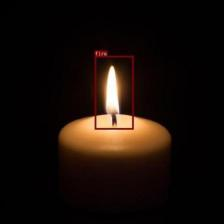fire: (95, 55, 133, 130)
